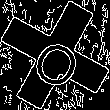O_NE: (24, 22, 86, 88)
